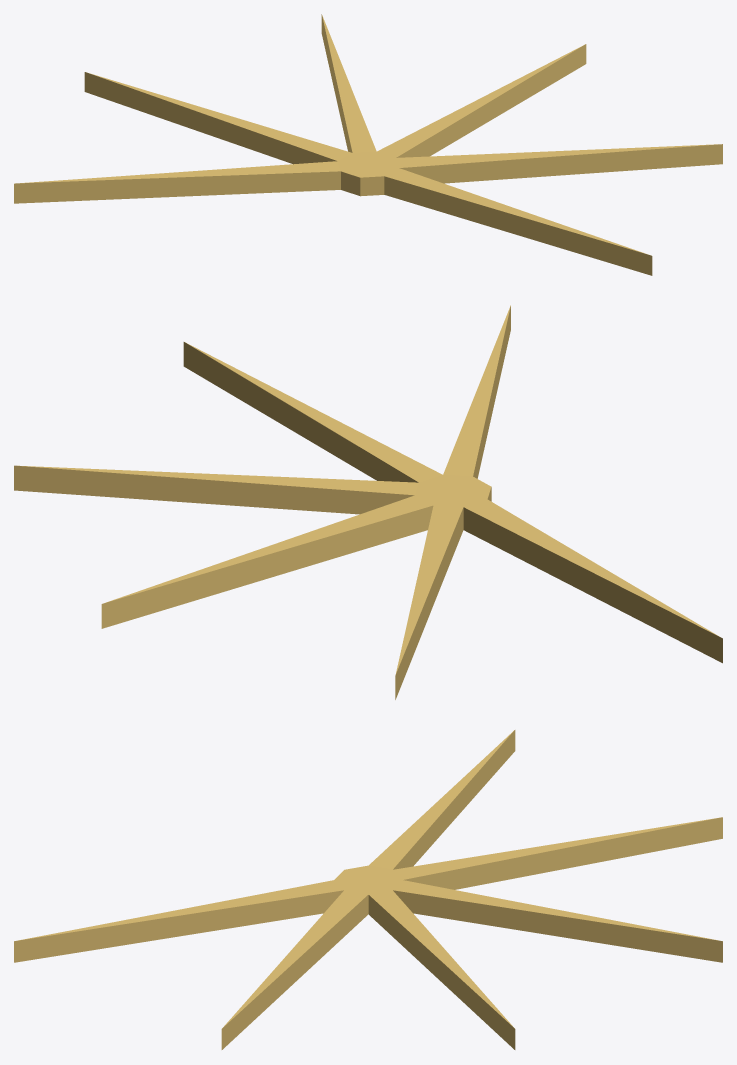
3 views of the same model, one above another, from view 1: azimuth 30°, elevation 25°; view 2: azimuth 150°, elevation 25°; view 3: azimuth 270°, elevation 25° (orthographic). The views are drawn at different scales.
Parts seen in each view (by area): view 1: Cylinder.011; view 2: Cylinder.011; view 3: Cylinder.011.
Boxes of the visible parts, bbox=[...] form: Cylinder.011: bbox=[14, 14, 722, 275]; Cylinder.011: bbox=[14, 305, 722, 699]; Cylinder.011: bbox=[14, 730, 722, 1049].
Bounding box in the file's own units: 0.0711 × 0.00239 × 0.0711.
